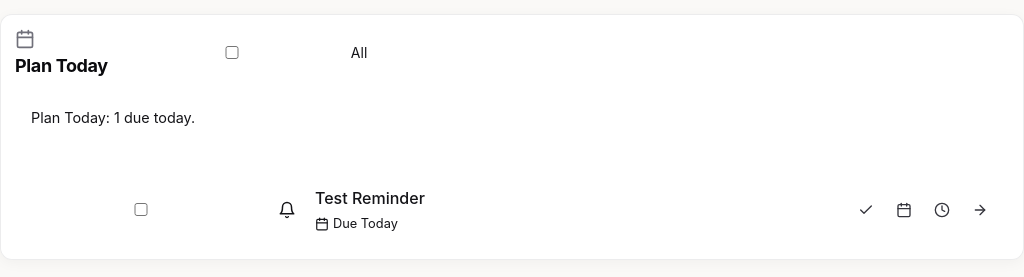
PlanTodayPanel › shows Snooze button in header when reminders are selected
Expected: the text "Snooze" is not shown
Click the checkbox named "Select item: Test Reminder" at coordinates (141, 210), box [31,203,251,216]
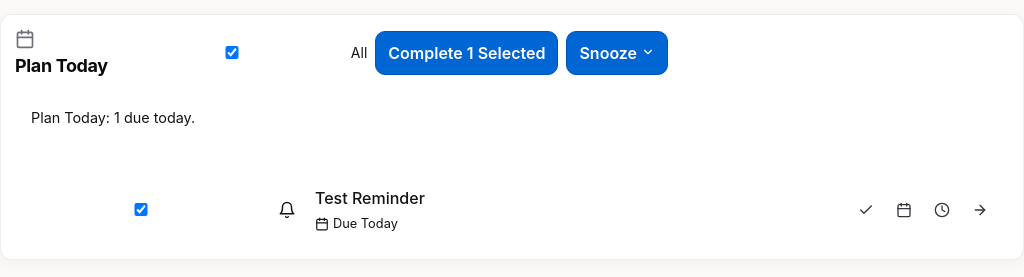
Expected: the button "Snooze" is shown, [566,31,668,75]
